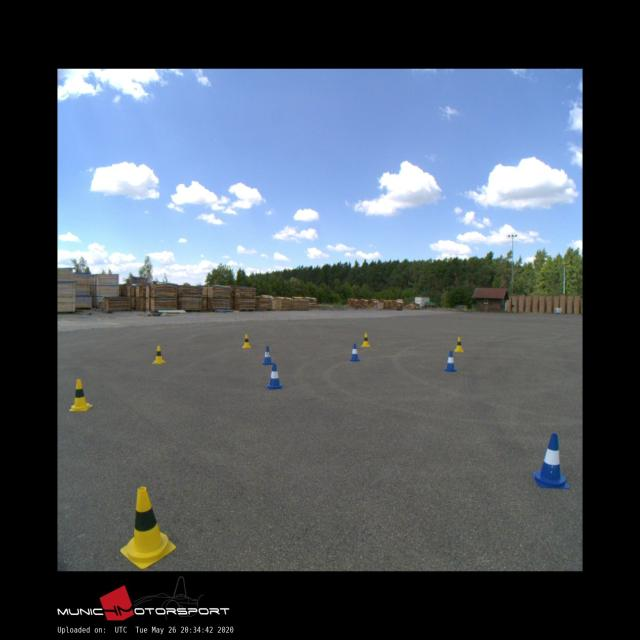blue_cone: (532, 433, 568, 488), (266, 364, 282, 389), (444, 351, 456, 370), (262, 346, 272, 364), (349, 344, 360, 360)
yellow_cone: (120, 487, 176, 568), (69, 379, 92, 410), (152, 346, 166, 363), (454, 337, 464, 351), (361, 332, 369, 346), (242, 334, 250, 347)
